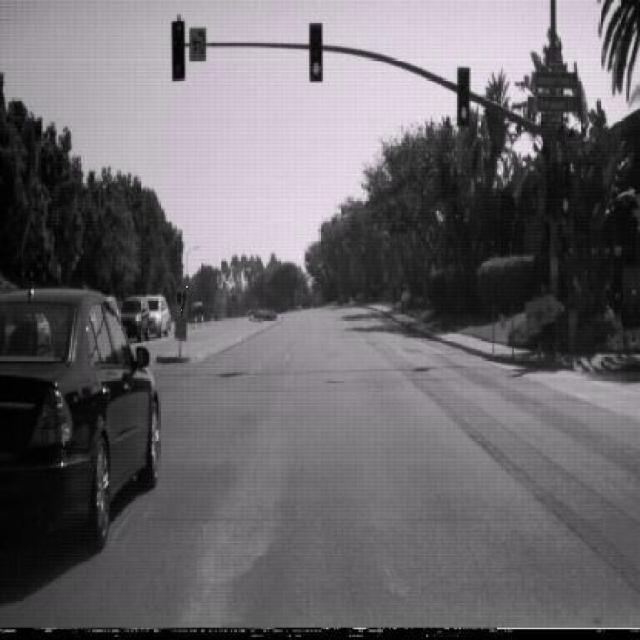keepRight: (173, 283, 190, 324)
